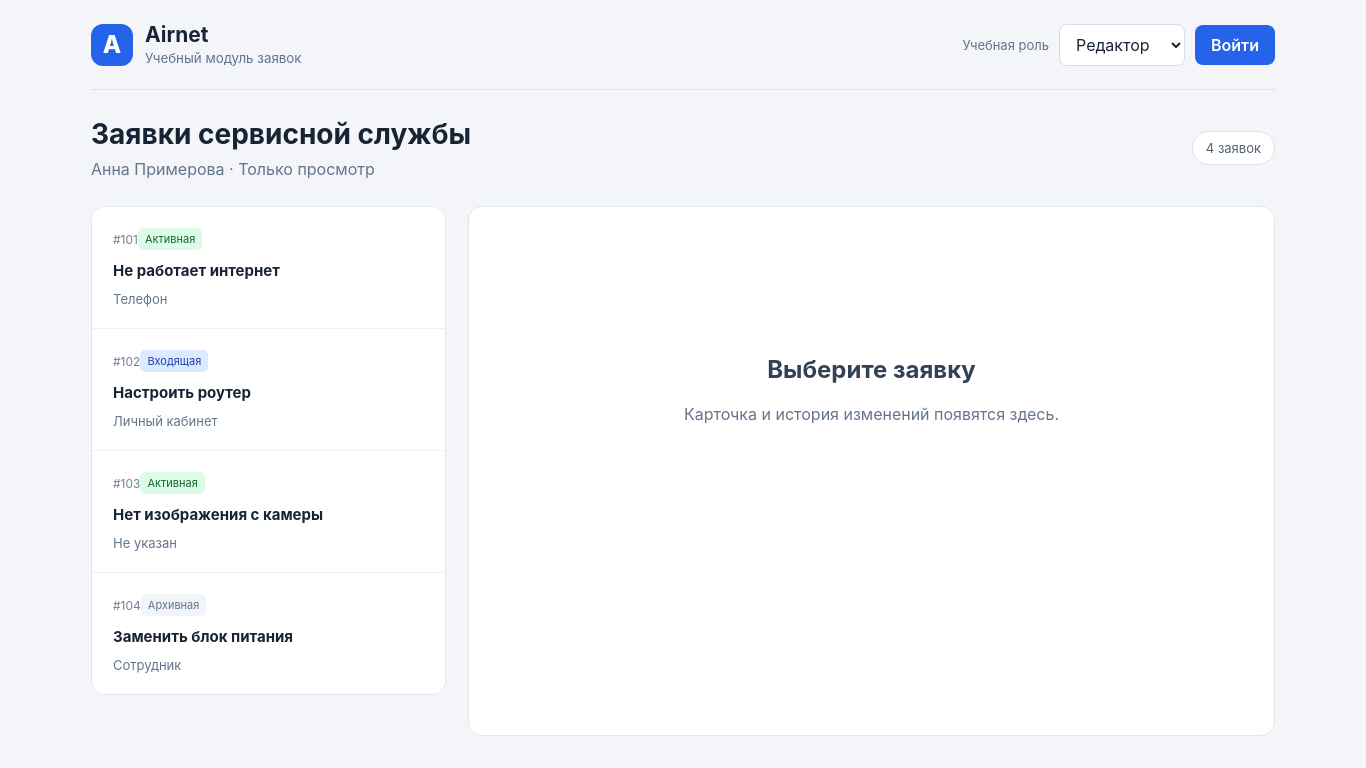
Test: Карточка заявки › заявка без источника показывает «Не указан» (исходная ошибка 2)
Click the button "#103 Активная Нет изображения с камеры Не указан": (268, 512) [92,451,445,573]
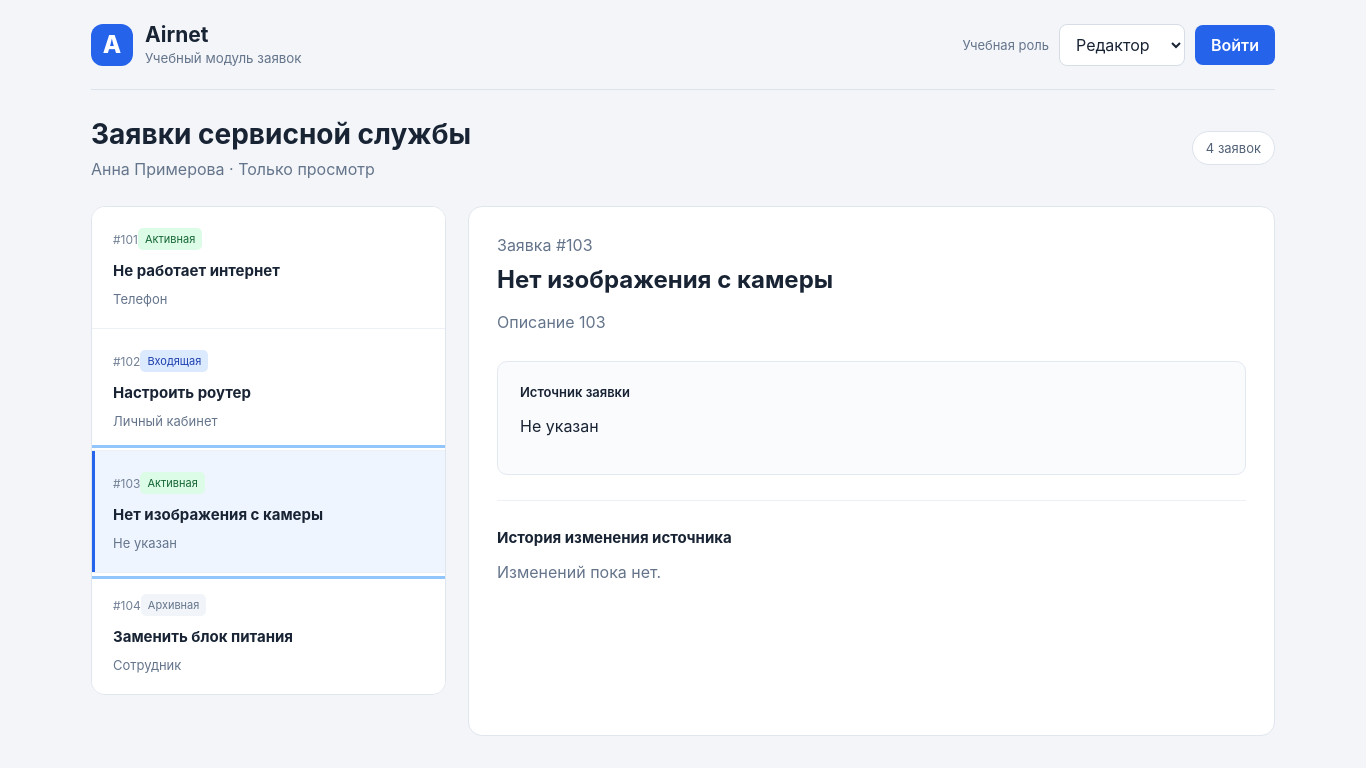
Expected: the 2nd text "Не указан" is shown, [113,535,177,551]
Now the text "Не указан" below "Источник заявки" is shown, box [520,416,599,436]
